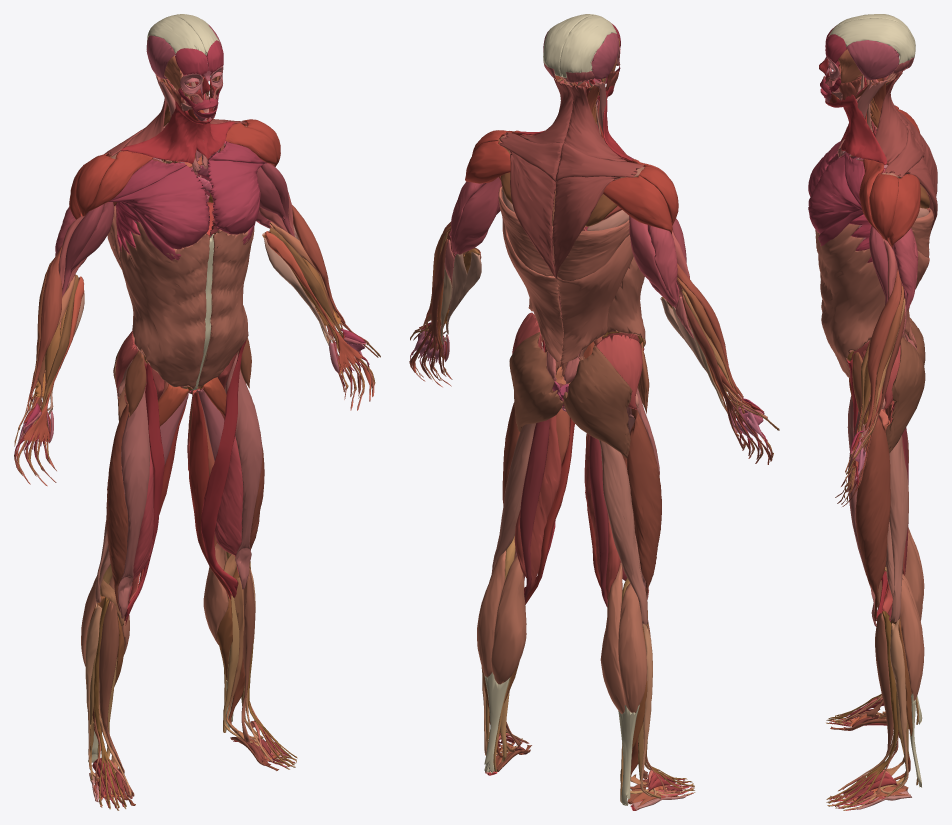
File: bp3d-vh-m-muscles-full.glb
3 renders of one model, left to right at view 1: azimuth 30°, elevation 25°; view 2: azimuth 150°, elevation 25°; view 3: azimuth 270°, elevation 25°, orthographic.
Parts seen in each view (by area): view 1: external-oblique, pectoralis-major, rectus-femoris, sartorius, deltoid, biceps-brachii, vastus-medialis, vastus-lateralis, platysma, tibialis-anterior, gracilis, brachioradialis (+21 smaller); view 2: trapezius, latissimus-dorsi, gastrocnemius, gluteus-maximus, biceps-femoris, triceps-brachii, deltoid, vastus-lateralis, semitendinosus, semimembranosus, epicranial-aponeurosis, extensor-digitorum (+12 smaller); view 3: external-oblique, vastus-lateralis, pectoralis-major, deltoid, trapezius, biceps-femoris, gastrocnemius, gluteus-maximus, epicranial-aponeurosis, platysma, brachioradialis, temporoparietalis (+30 smaller).
Part boxes in pixels (x1,y1,x2,y2): external-oblique: (119,221,254,388); pectoralis-major: (108,141,267,260); rectus-femoris: (117,354,262,618); sartorius: (125,340,246,623); deltoid: (69,119,280,219); biceps-brachii: (62,163,294,296); vastus-medialis: (133,436,243,579); vastus-lateralis: (106,404,264,612); platysma: (121,96,235,163); tibialis-anterior: (99,567,255,773); gracilis: (125,389,231,625); brachioradialis: (30,205,345,401); trapezius: (499,80,643,279); latissimus-dorsi: (498,186,633,363); gastrocnemius: (477,550,647,713); gluteus-maximus: (509,332,632,458); biceps-femoris: (491,423,648,625); triceps-brachii: (449,177,679,307); deltoid: (465,130,678,233); vastus-lateralis: (502,402,661,596); semitendinosus: (520,419,608,607); semimembranosus: (514,415,620,599); epicranial-aponeurosis: (543,14,617,77); extensor-digitorum: (409,238,771,459); external-oblique: (815,223,885,377); vastus-lateralis: (855,419,890,621); pectoralis-major: (808,141,864,245); deltoid: (859,105,920,247); trapezius: (875,71,937,234); biceps-femoris: (886,431,908,622); gastrocnemius: (900,527,924,700); gluteus-maximus: (885,317,925,452); epicranial-aponeurosis: (828,14,915,64); platysma: (825,94,886,165); brachioradialis: (864,268,901,430); temporoparietalis: (846,40,899,80).
Size of the model in its own units: 0.9173 by 1.8 by 0.2833.
